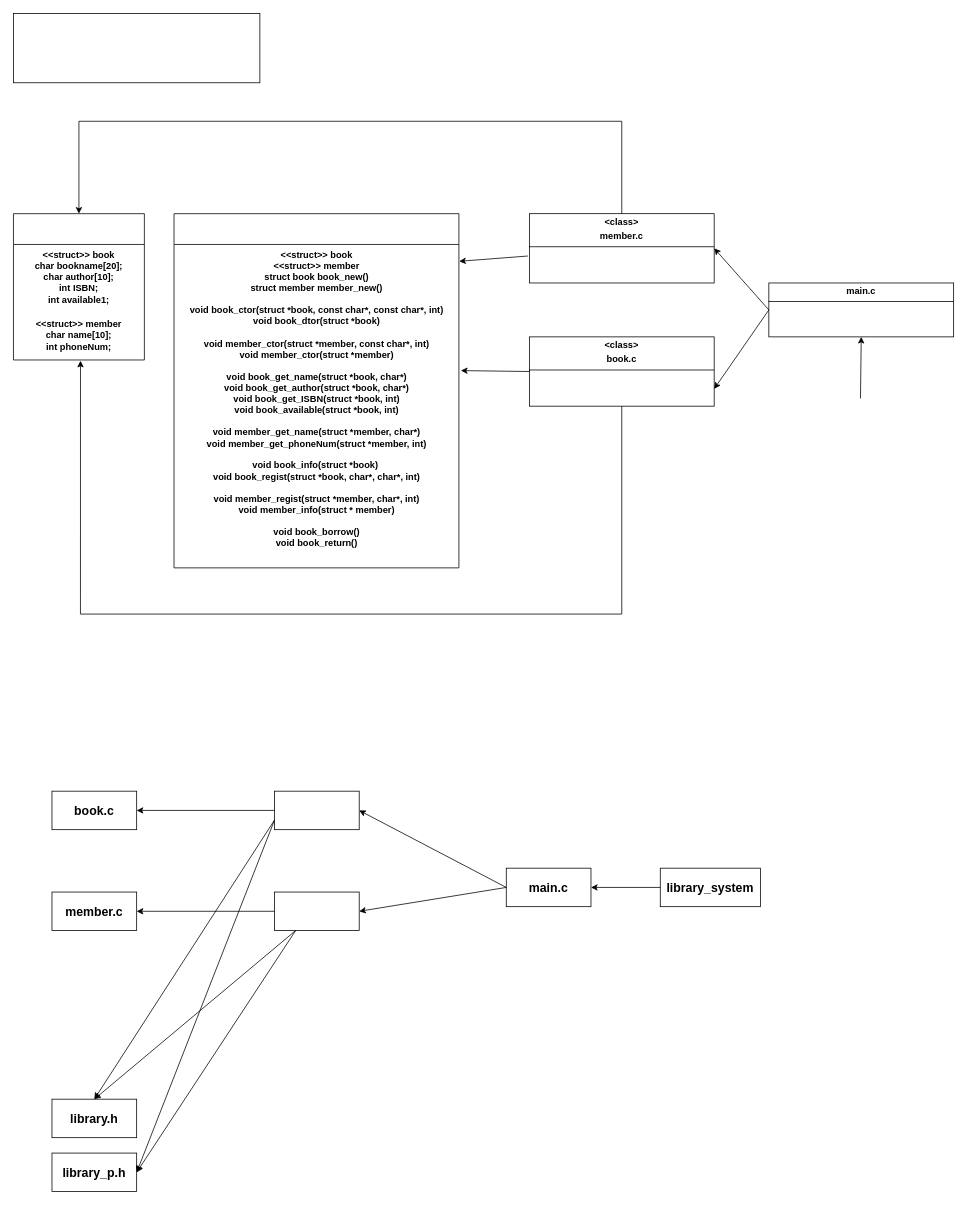
Some shapes in this 967 by 1205 pixel diagram are drawn without their labels. Here are the shapes that lost their labels. From the top down, the box of each, then its label:
(13, 13, 260, 83): 도서 관리? 책 이름 작가 isbn 회원 관리 조회 등록 대출 반납 시스템 조회 => 책 정보
(13, 213, 144, 360): <p_interface> library_p.h
(173, 213, 459, 568): <interface> library.h
(274, 790, 359, 830): book.o
(274, 891, 359, 931): member.o
